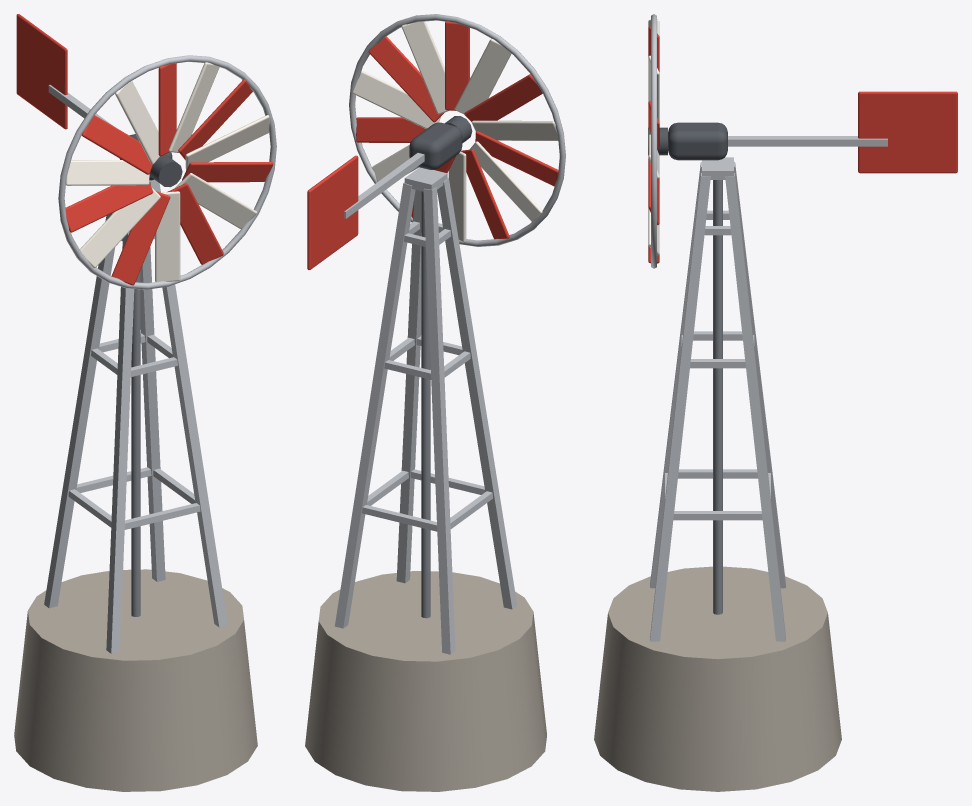
Rendered from windmill-windpump.glb.
The picture shows the model from 3 angles, left to right: view 1: azimuth 30°, elevation 25°; view 2: azimuth 150°, elevation 25°; view 3: azimuth 270°, elevation 25°; orthographic projection.
Size of the model in its own units: 1.28 by 3.94 by 1.82.
